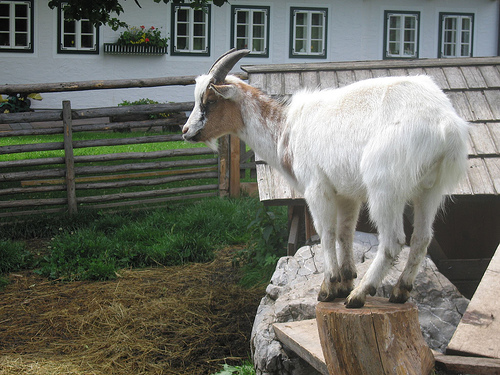goat: (180, 49, 468, 311)
